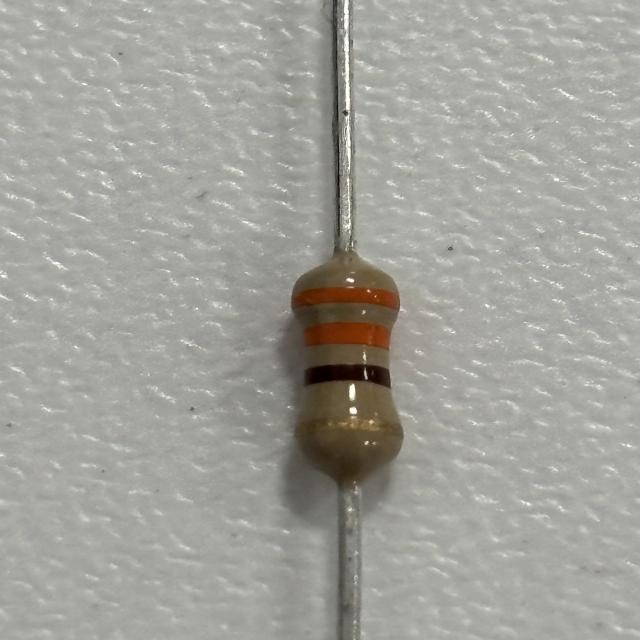resistor: (288, 262, 408, 476)
